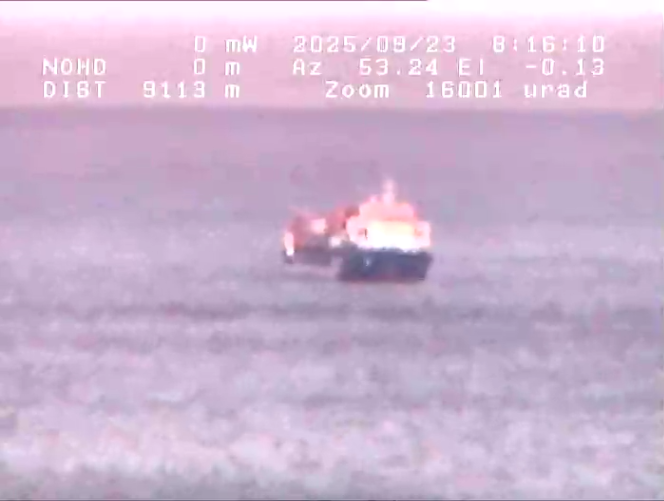TANKER: (262, 149, 446, 300)
